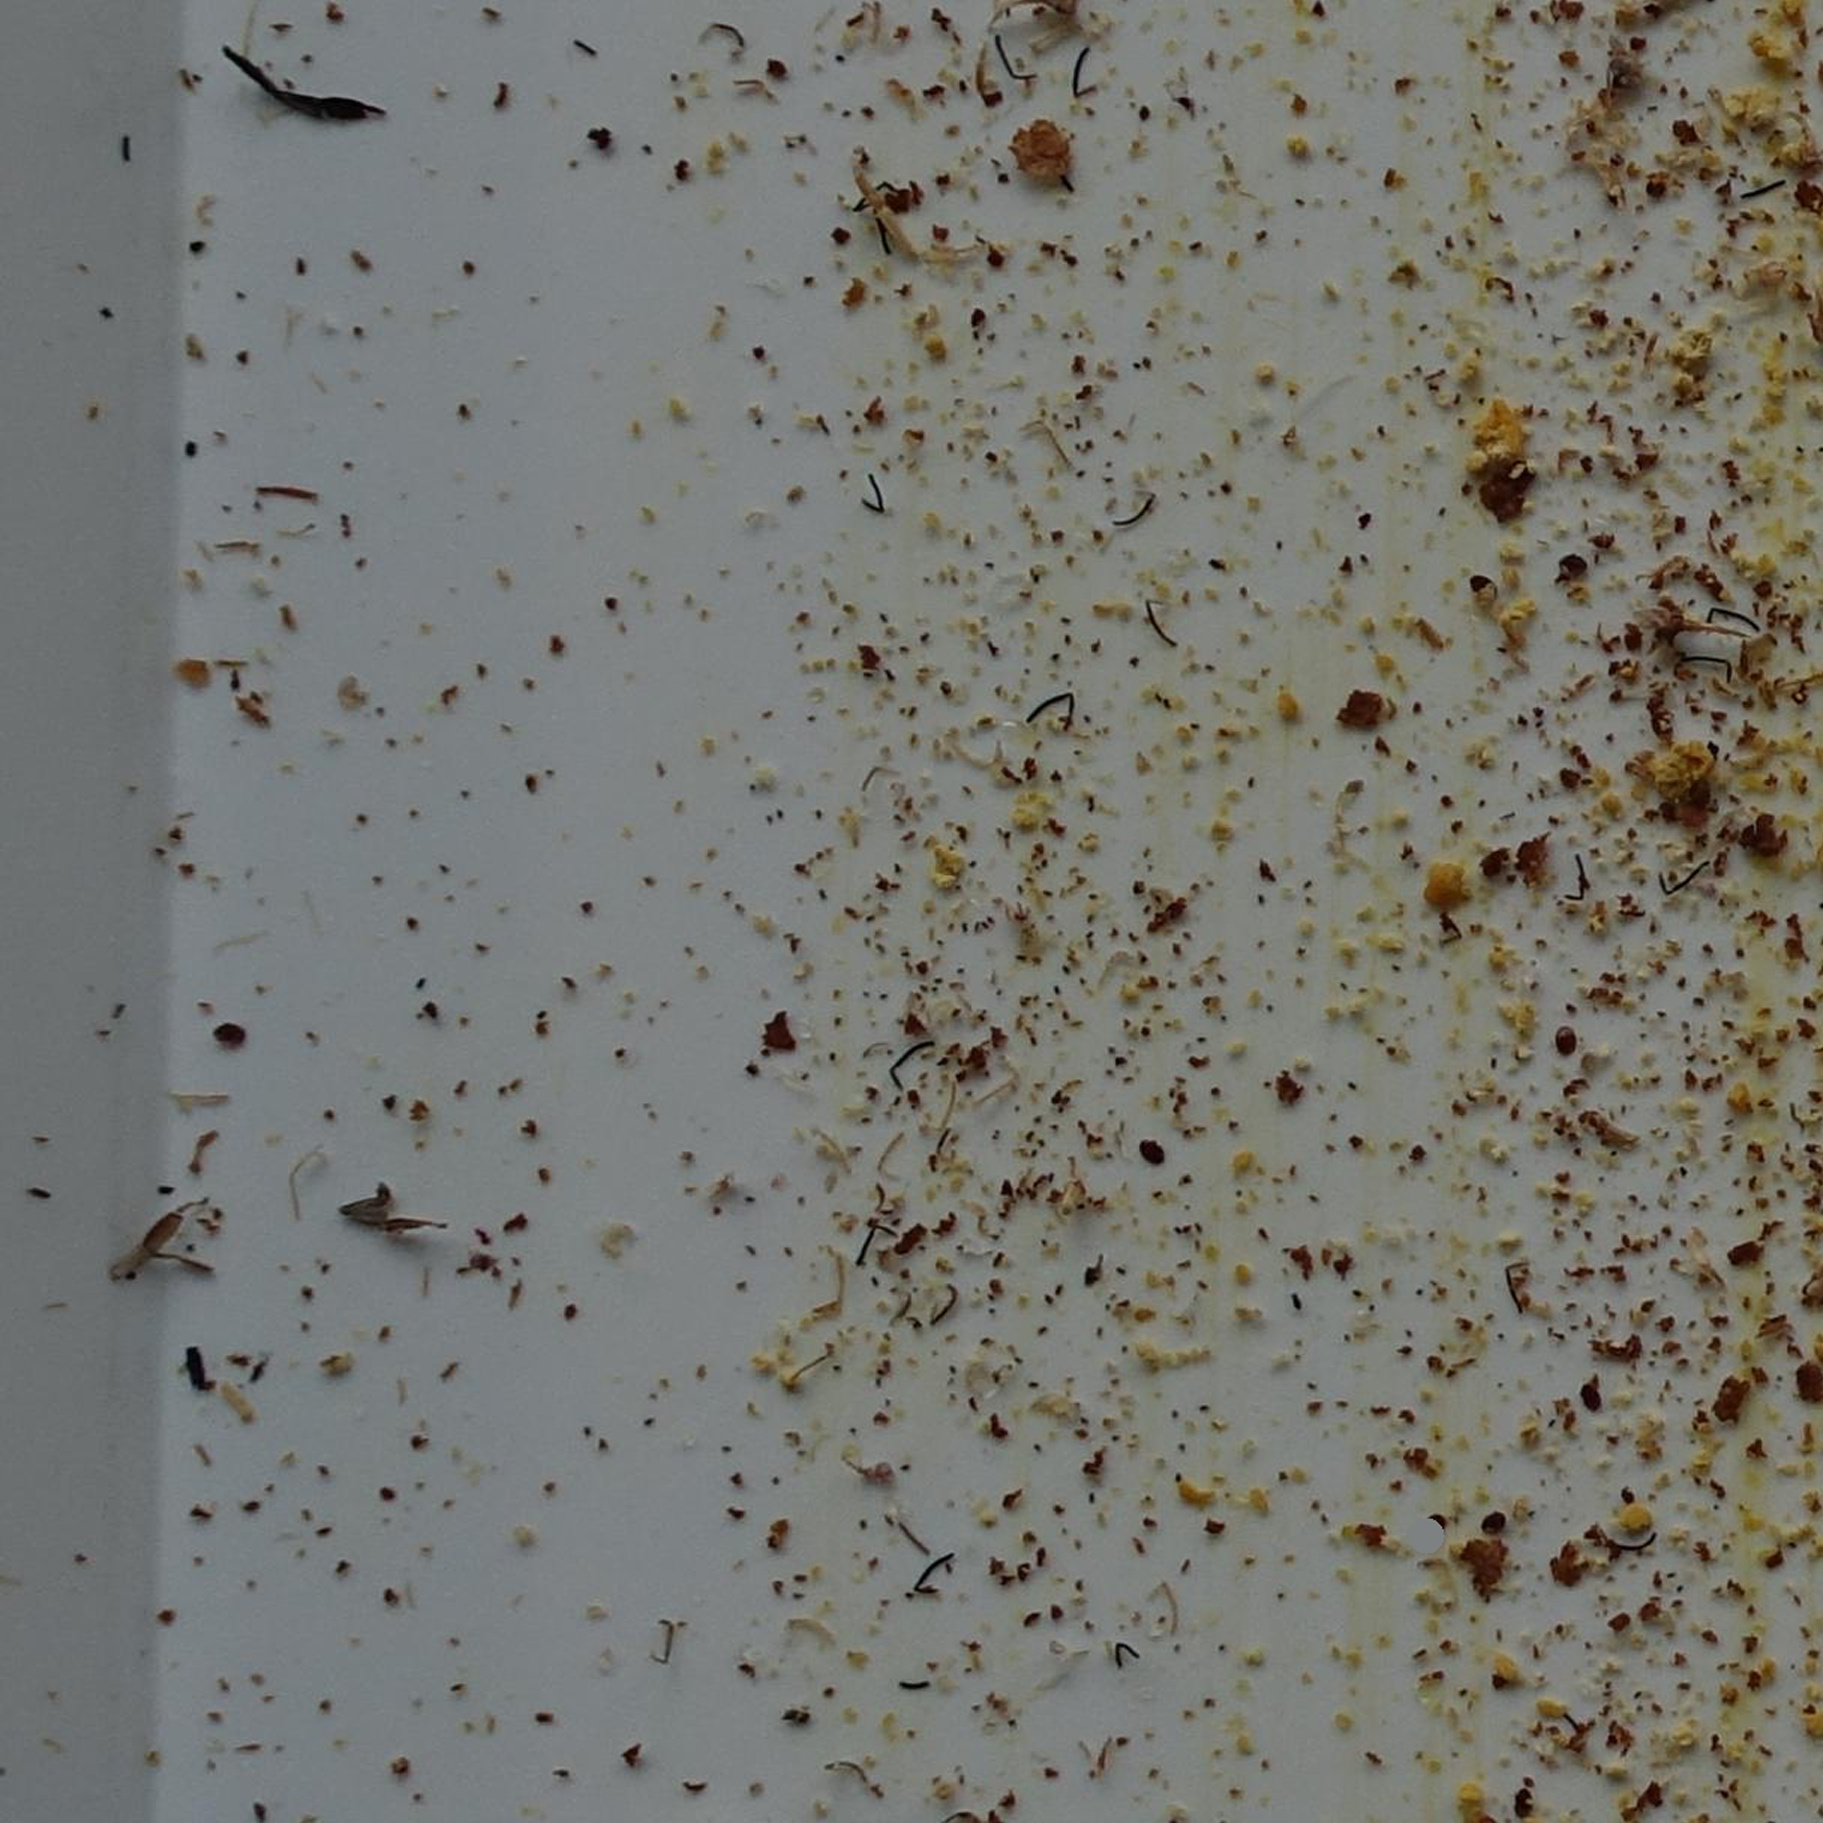Varroa: (1467, 569, 1497, 598), (215, 1023, 240, 1048), (1559, 554, 1583, 581), (1551, 1030, 1574, 1055), (1481, 1509, 1501, 1534), (1142, 1137, 1160, 1159), (1579, 1391, 1594, 1406), (1432, 1521, 1444, 1534)
